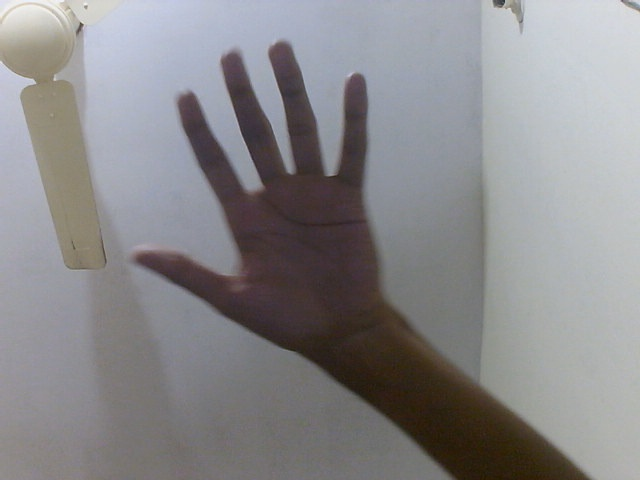hand: (124, 37, 408, 357)
